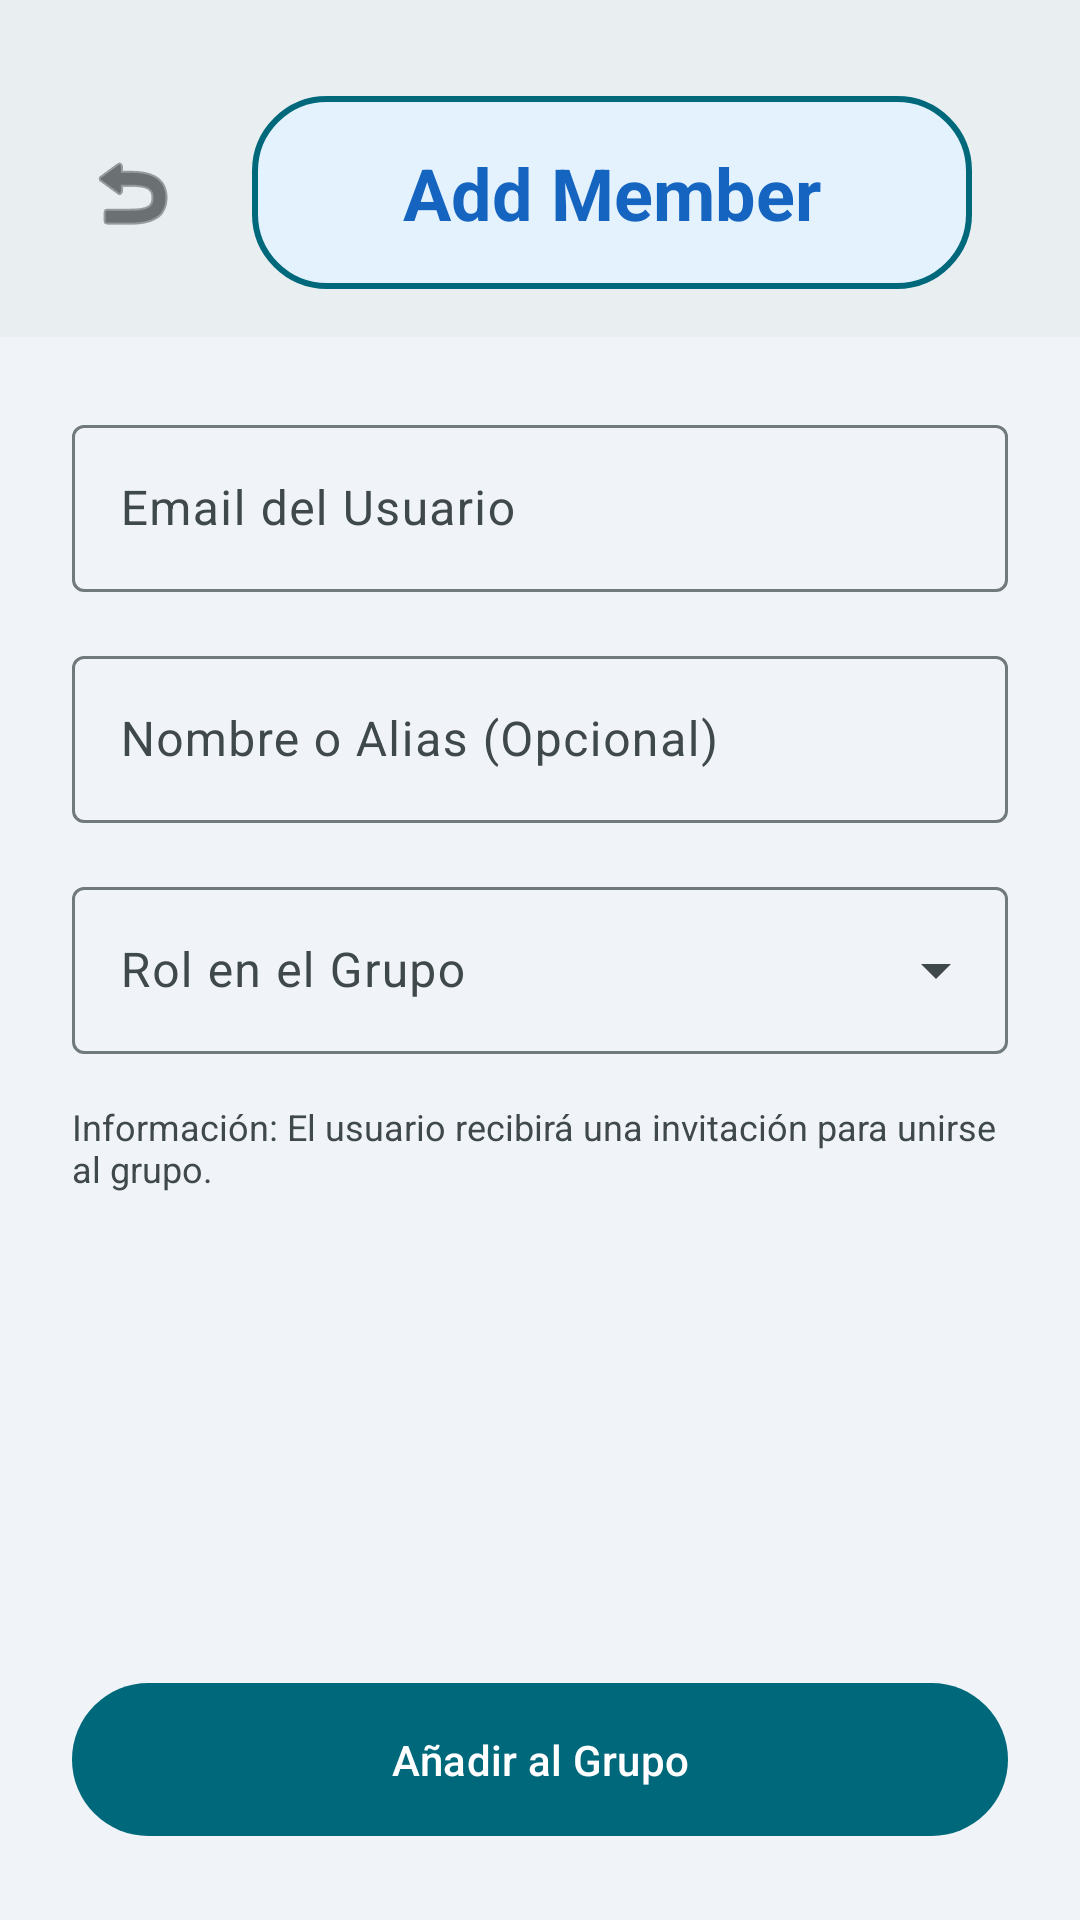

Named icons in this screenshot (1080*1920) and their centers, [x,y]:
revert: [133,193]
